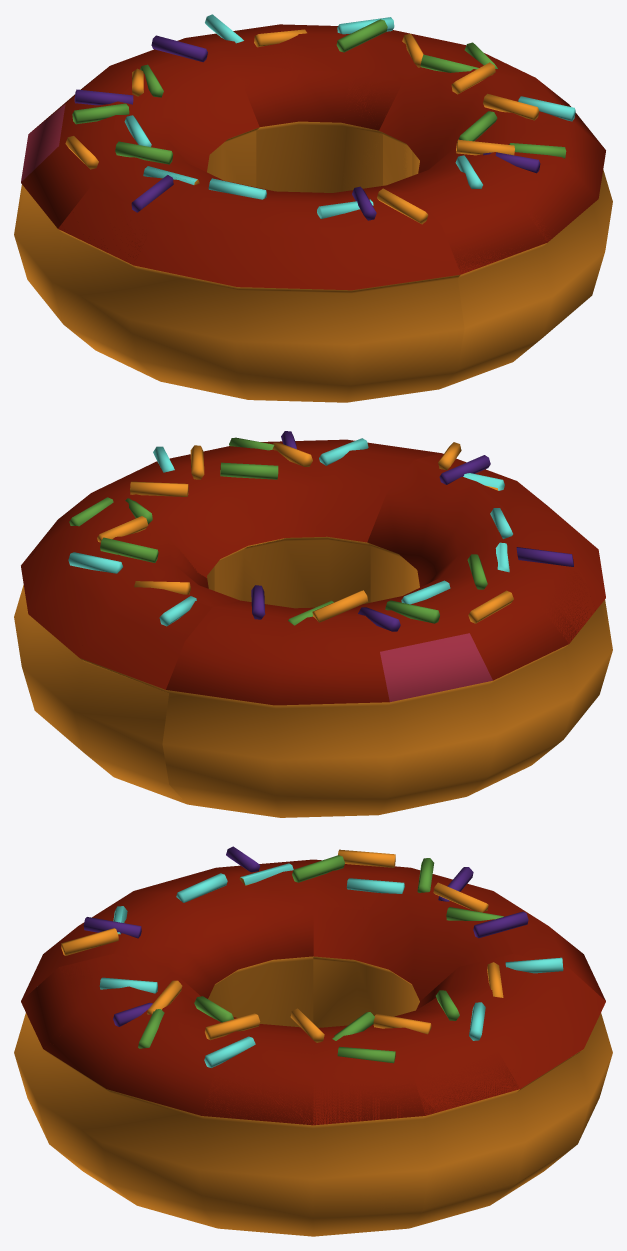
The model's file is donuts.fbx.
The picture shows the model from 3 angles, top to bottom: view 1: azimuth 30°, elevation 25°; view 2: azimuth 150°, elevation 25°; view 3: azimuth 270°, elevation 25°; orthographic projection.
Parts seen in each view (by area): view 1: donuts.155, donuts, donuts.002; view 2: donuts, donuts.002, donuts.155; view 3: donuts, donuts.002, donuts.155.
Part boxes in pixels (left/top/right/bottom): donuts.155: left=52, top=36, right=464, bottom=402; donuts: left=14, top=17, right=612, bottom=388; donuts.002: left=186, top=14, right=593, bottom=274; donuts: left=14, top=431, right=595, bottom=817; donuts.002: left=14, top=431, right=441, bottom=800; donuts.155: left=213, top=442, right=612, bottom=739; donuts: left=14, top=849, right=605, bottom=1236; donuts.002: left=59, top=954, right=612, bottom=1227; donuts.155: left=21, top=846, right=524, bottom=1027.
Bounding box in the file's own units: 104 × 39.34 × 104.
